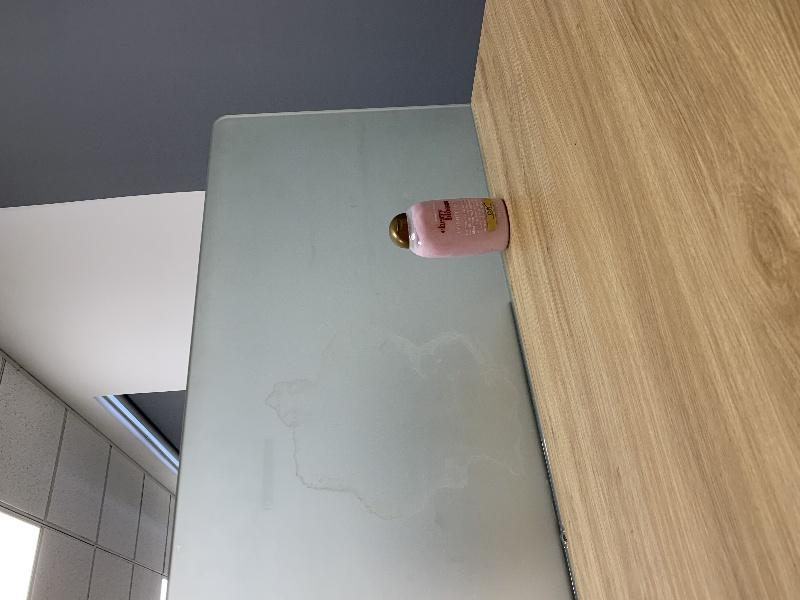CherryBlossom_Conditioner: (389, 198, 510, 257)
